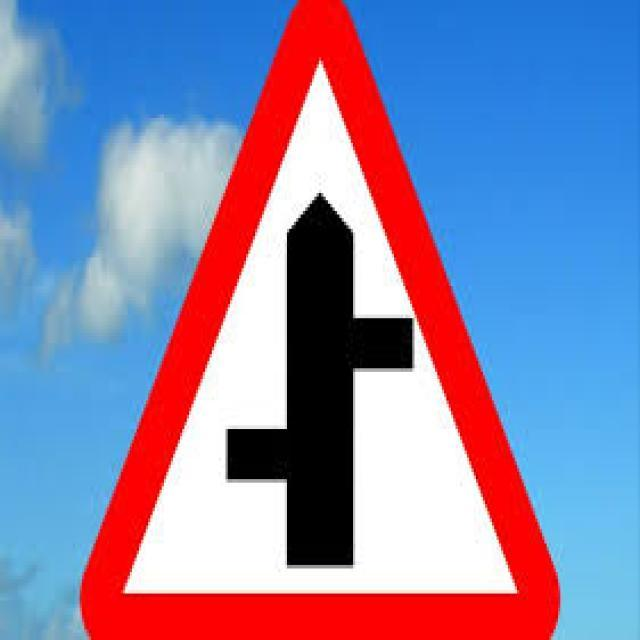staggered intersection: (83, 21, 556, 629)
